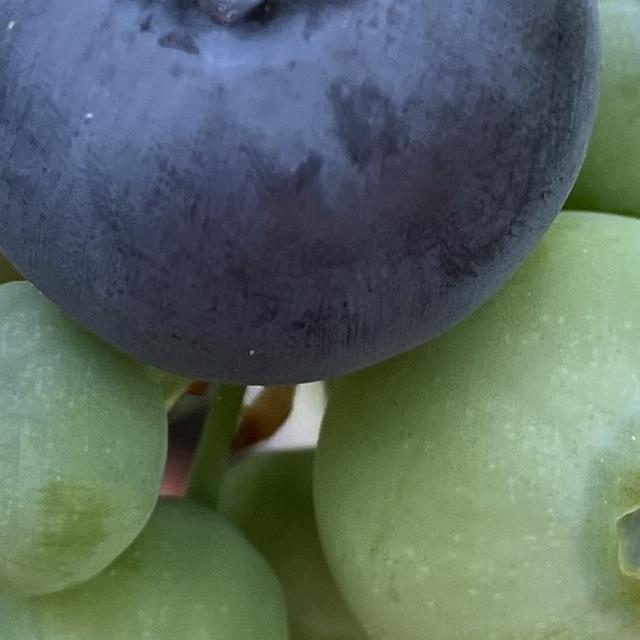Blueberries: (0, 0, 603, 386), (308, 207, 640, 640), (0, 264, 185, 591)
